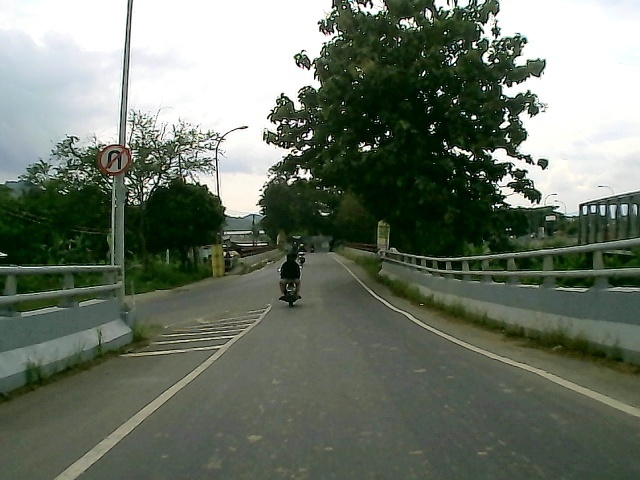Dilarang berbalik arah: (94, 143, 135, 177)
